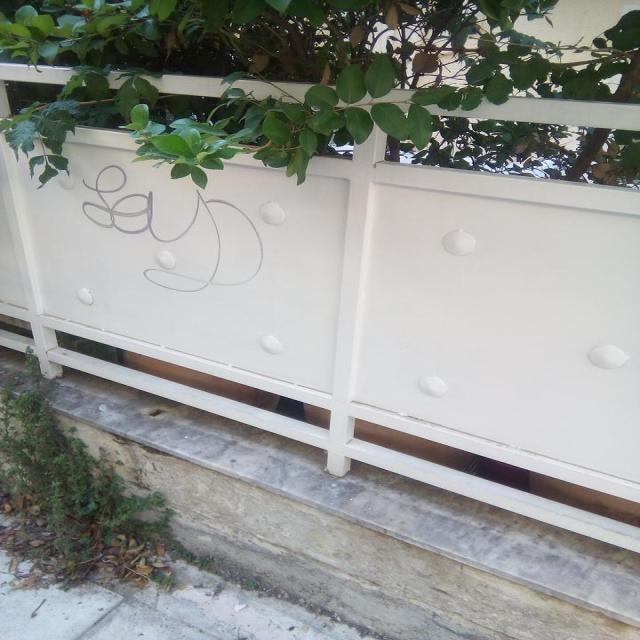nonspitting: (82, 164, 266, 294)
